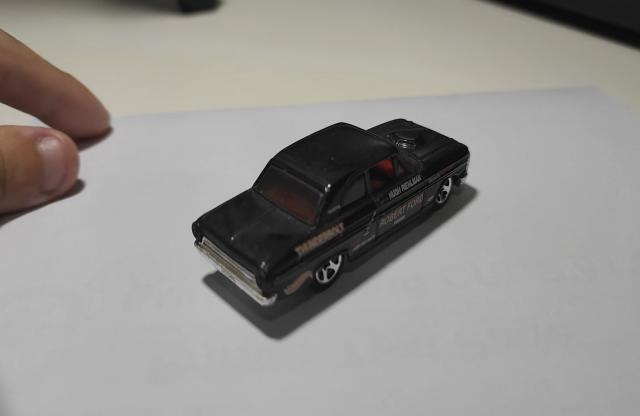01_FORD: (191, 119, 478, 342)
